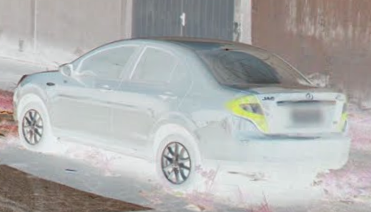car: (13, 37, 350, 195)
